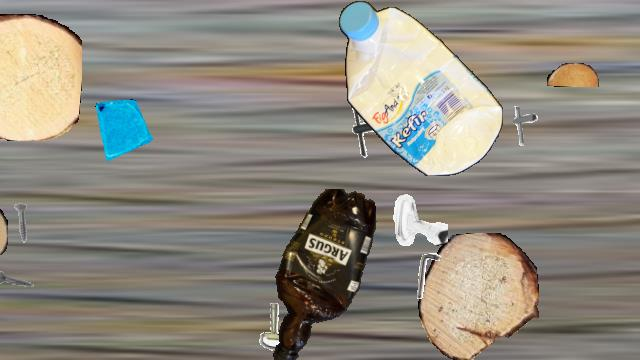glass: (92, 99, 156, 163)
metal: (341, 99, 401, 159), (390, 191, 448, 249), (249, 299, 305, 355), (403, 249, 457, 303), (501, 103, 545, 147), (1, 202, 43, 244), (0, 258, 39, 300)
plastic: (339, 1, 503, 175), (263, 189, 383, 359)
wood: (418, 233, 538, 359), (0, 14, 81, 140), (547, 63, 599, 87), (0, 191, 8, 269)
